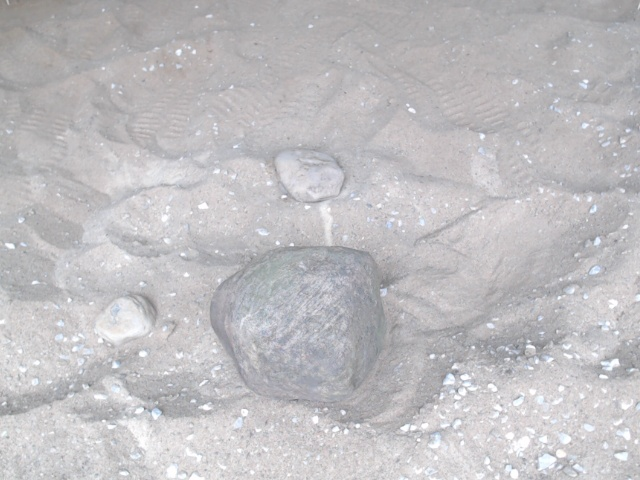rock: (205, 239, 392, 411), (270, 144, 348, 206), (90, 291, 161, 350)
